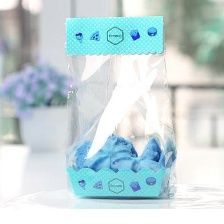snack: (55, 10, 184, 205)
